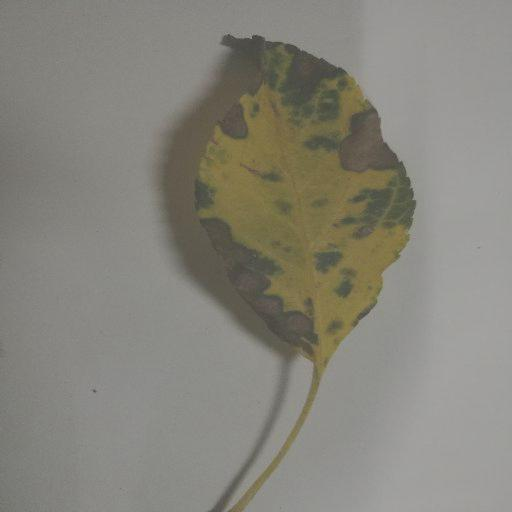Brown_Spot: (204, 218, 310, 350), (331, 122, 400, 173), (281, 55, 338, 96), (219, 109, 254, 134)
